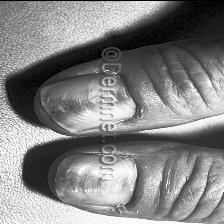Toxin: (58, 154, 96, 206), (44, 86, 86, 122), (104, 182, 126, 190), (120, 90, 128, 104)
